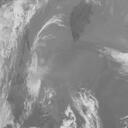cyclone: (53, 51, 103, 104)
